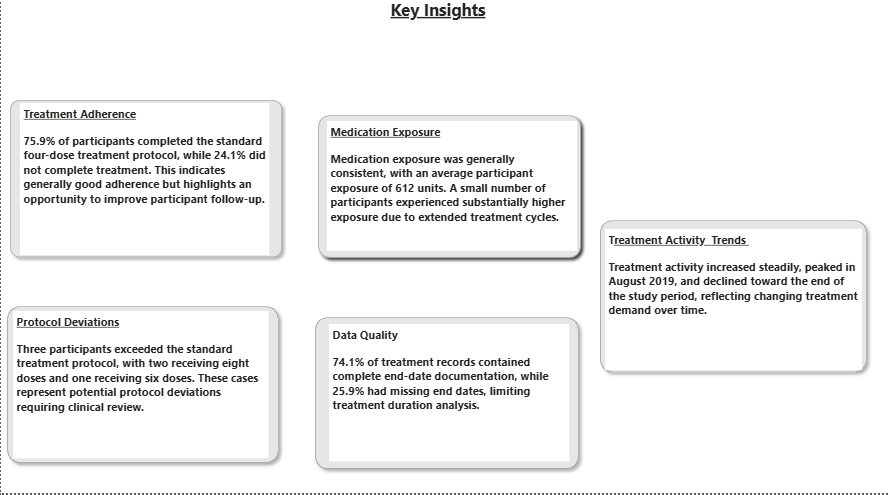

This screenshot's page, from the dashboard's own definition file:
{"tool":"powerbi","page":{"name":"Insights ","canvas":[1280,720],"ordinal":5},"visuals":[{"type":"group","id":"g1","title":"Group 1","box":[4.3,1.3,812.2,387.4],"z":0,"group":"g2"},{"type":"textbox","box":[555.7,1.3,260.8,83.2],"z":0,"group":"g1"},{"type":"shape","box":[447.8,166.7,396,223.2],"z":1000,"group":"g2"},{"type":"shape","box":[4.3,144.7,409.3,244],"z":2000,"group":"g1"},{"type":"textbox","box":[469.4,184,360,187.2],"z":2000,"group":"g2"},{"type":"textbox","box":[27.1,158.7,359.5,219.4],"z":3000,"group":"g1"},{"type":"shape","box":[0,441.7,408.9,243.6],"z":3000,"group":"g2"},{"type":"textbox","box":[17.5,457.5,368.1,212],"z":4000,"group":"g2"},{"type":"shape","box":[443.8,457.5,397.2,236.6],"z":5000,"group":"g2"},{"type":"textbox","box":[472.9,476.7,346.3,198],"z":6000,"group":"g2"},{"type":"shape","box":[854.1,317.7,401.5,237],"z":7000,"group":"g2"},{"type":"textbox","box":[870,339.6,369.8,202.8],"z":8000,"group":"g2"},{"type":"group","id":"g2","title":"Group 2","box":[0,1.3,1255.7,692.7],"z":8001}]}

Visuals, with their boxes in screenshot pixels (x1, y1, x2, y2), scaled from the page's 1280x720 canvas onto the 889x495 screenshot:
"Group 1" group: rect(3, 1, 567, 267)
textbox: rect(386, 1, 567, 58)
shape: rect(311, 115, 586, 268)
shape: rect(3, 99, 287, 267)
textbox: rect(326, 126, 576, 255)
textbox: rect(19, 109, 269, 260)
shape: rect(0, 304, 284, 471)
textbox: rect(12, 315, 268, 460)
shape: rect(308, 315, 584, 477)
textbox: rect(328, 328, 569, 464)
shape: rect(593, 218, 872, 381)
textbox: rect(604, 233, 861, 373)
"Group 2" group: rect(0, 1, 872, 477)
